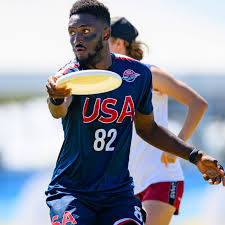disc: (54, 70, 126, 98)
